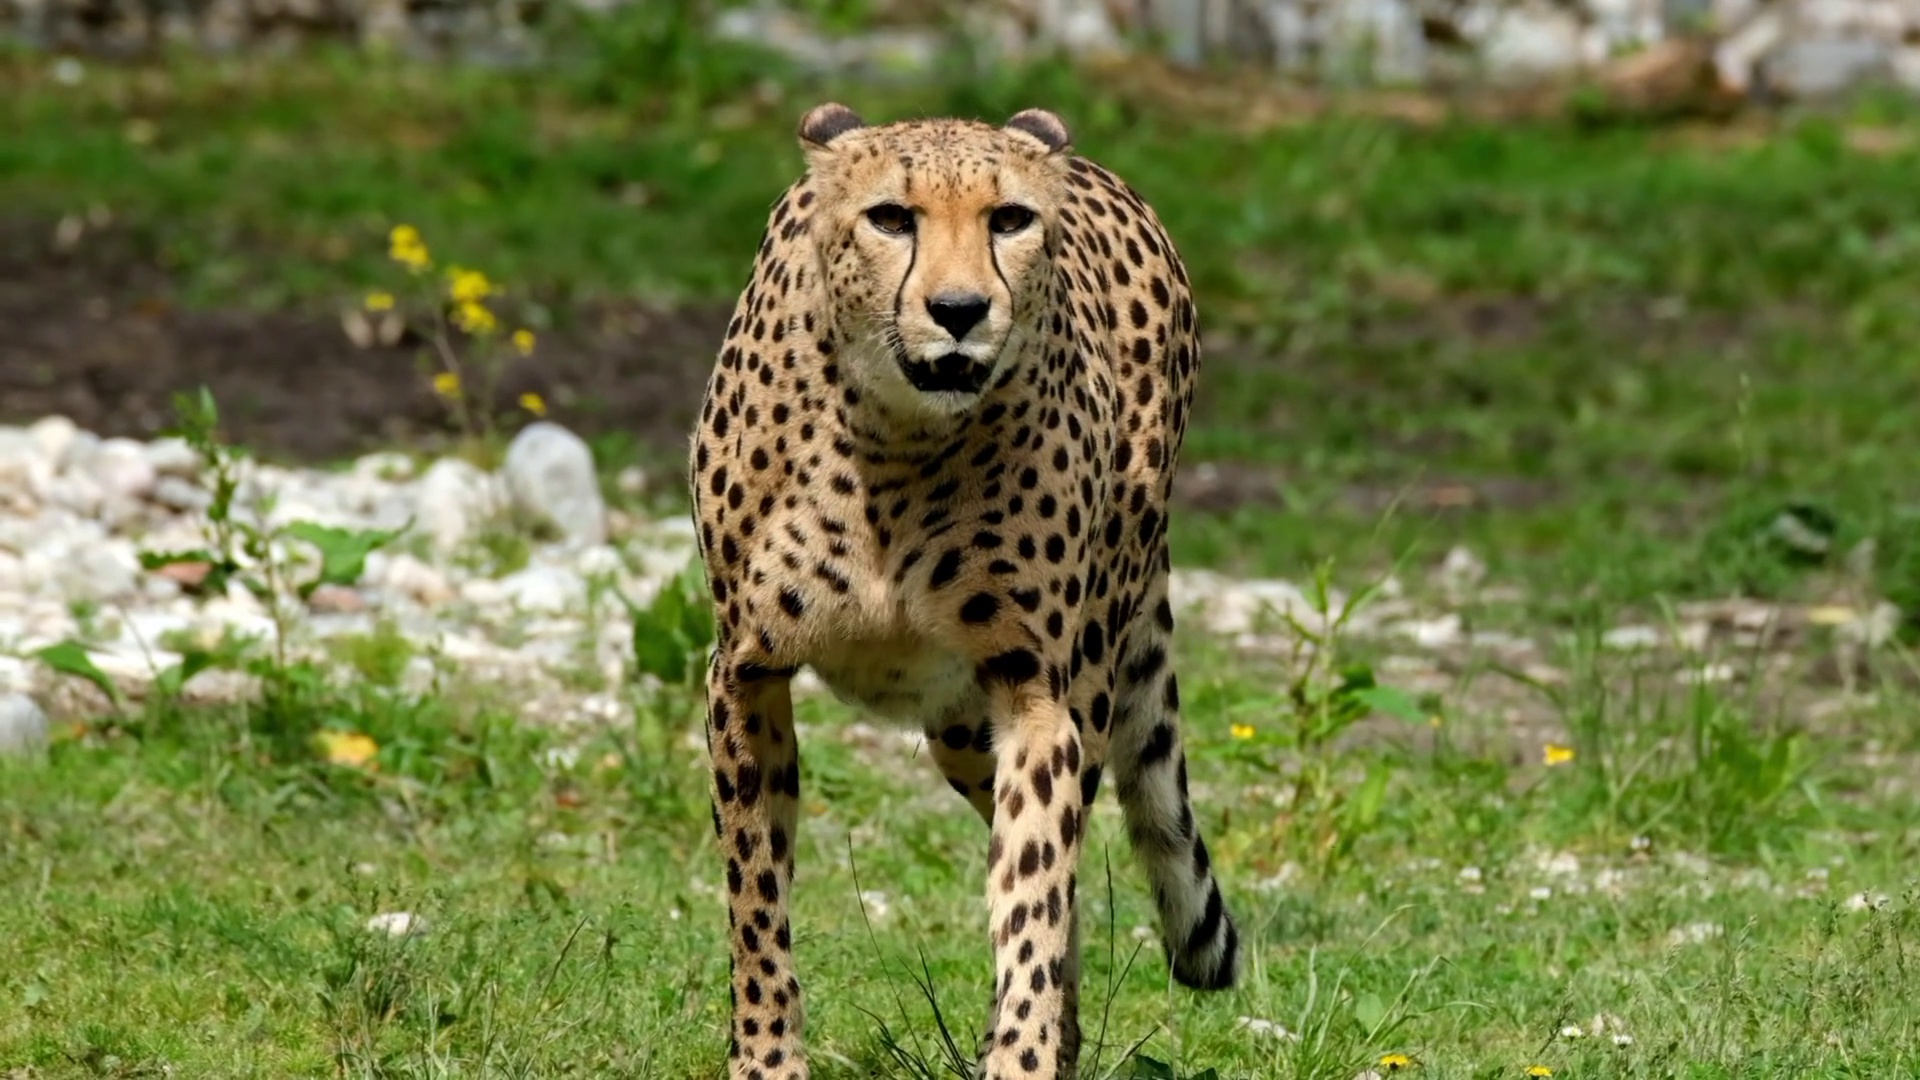Cheetah: (679, 98, 1240, 1080)
